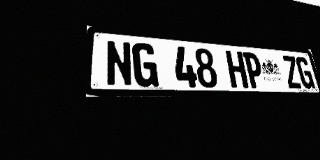4: (173, 46, 198, 87)
8: (194, 48, 218, 88)
G: (132, 42, 159, 87), (295, 56, 315, 89)
H: (225, 50, 249, 88)
N: (105, 40, 133, 87)
P: (242, 52, 265, 88)
Z: (281, 55, 302, 88)
